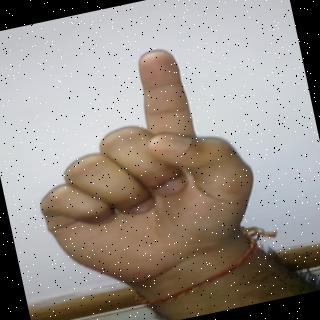I: (10, 22, 280, 296)
